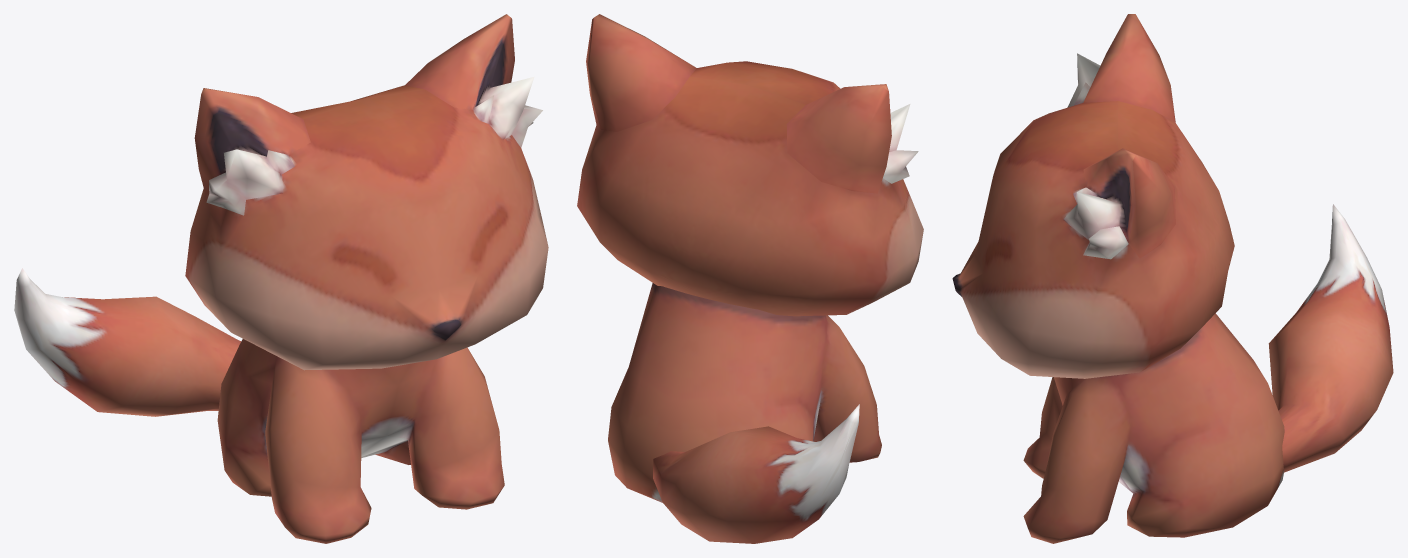
Rendered from Homeworld_Exterior_Dq_Thing_Prop_ColorFoxDoll_01_Vo.fbx.
3 views of the same model, side by side, from view 1: azimuth 30°, elevation 25°; view 2: azimuth 150°, elevation 25°; view 3: azimuth 270°, elevation 25° (orthographic). The views are drawn at different scales.
Parts seen in each view (by area): view 1: Property_Prop_GK_02_Vo; view 2: Property_Prop_GK_02_Vo; view 3: Property_Prop_GK_02_Vo.
Part boxes in pixels (<box>): Property_Prop_GK_02_Vo: <box>14,14,548,543</box>; Property_Prop_GK_02_Vo: <box>577,14,923,543</box>; Property_Prop_GK_02_Vo: <box>952,14,1393,543</box>.
Bounding box in the file's own units: 0.3912 × 0.4106 × 0.3958.
